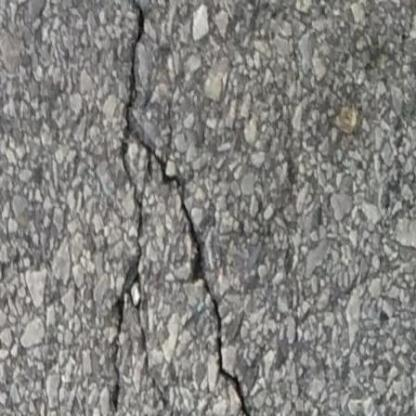Cracks: (105, 177, 273, 415), (59, 0, 184, 230)
